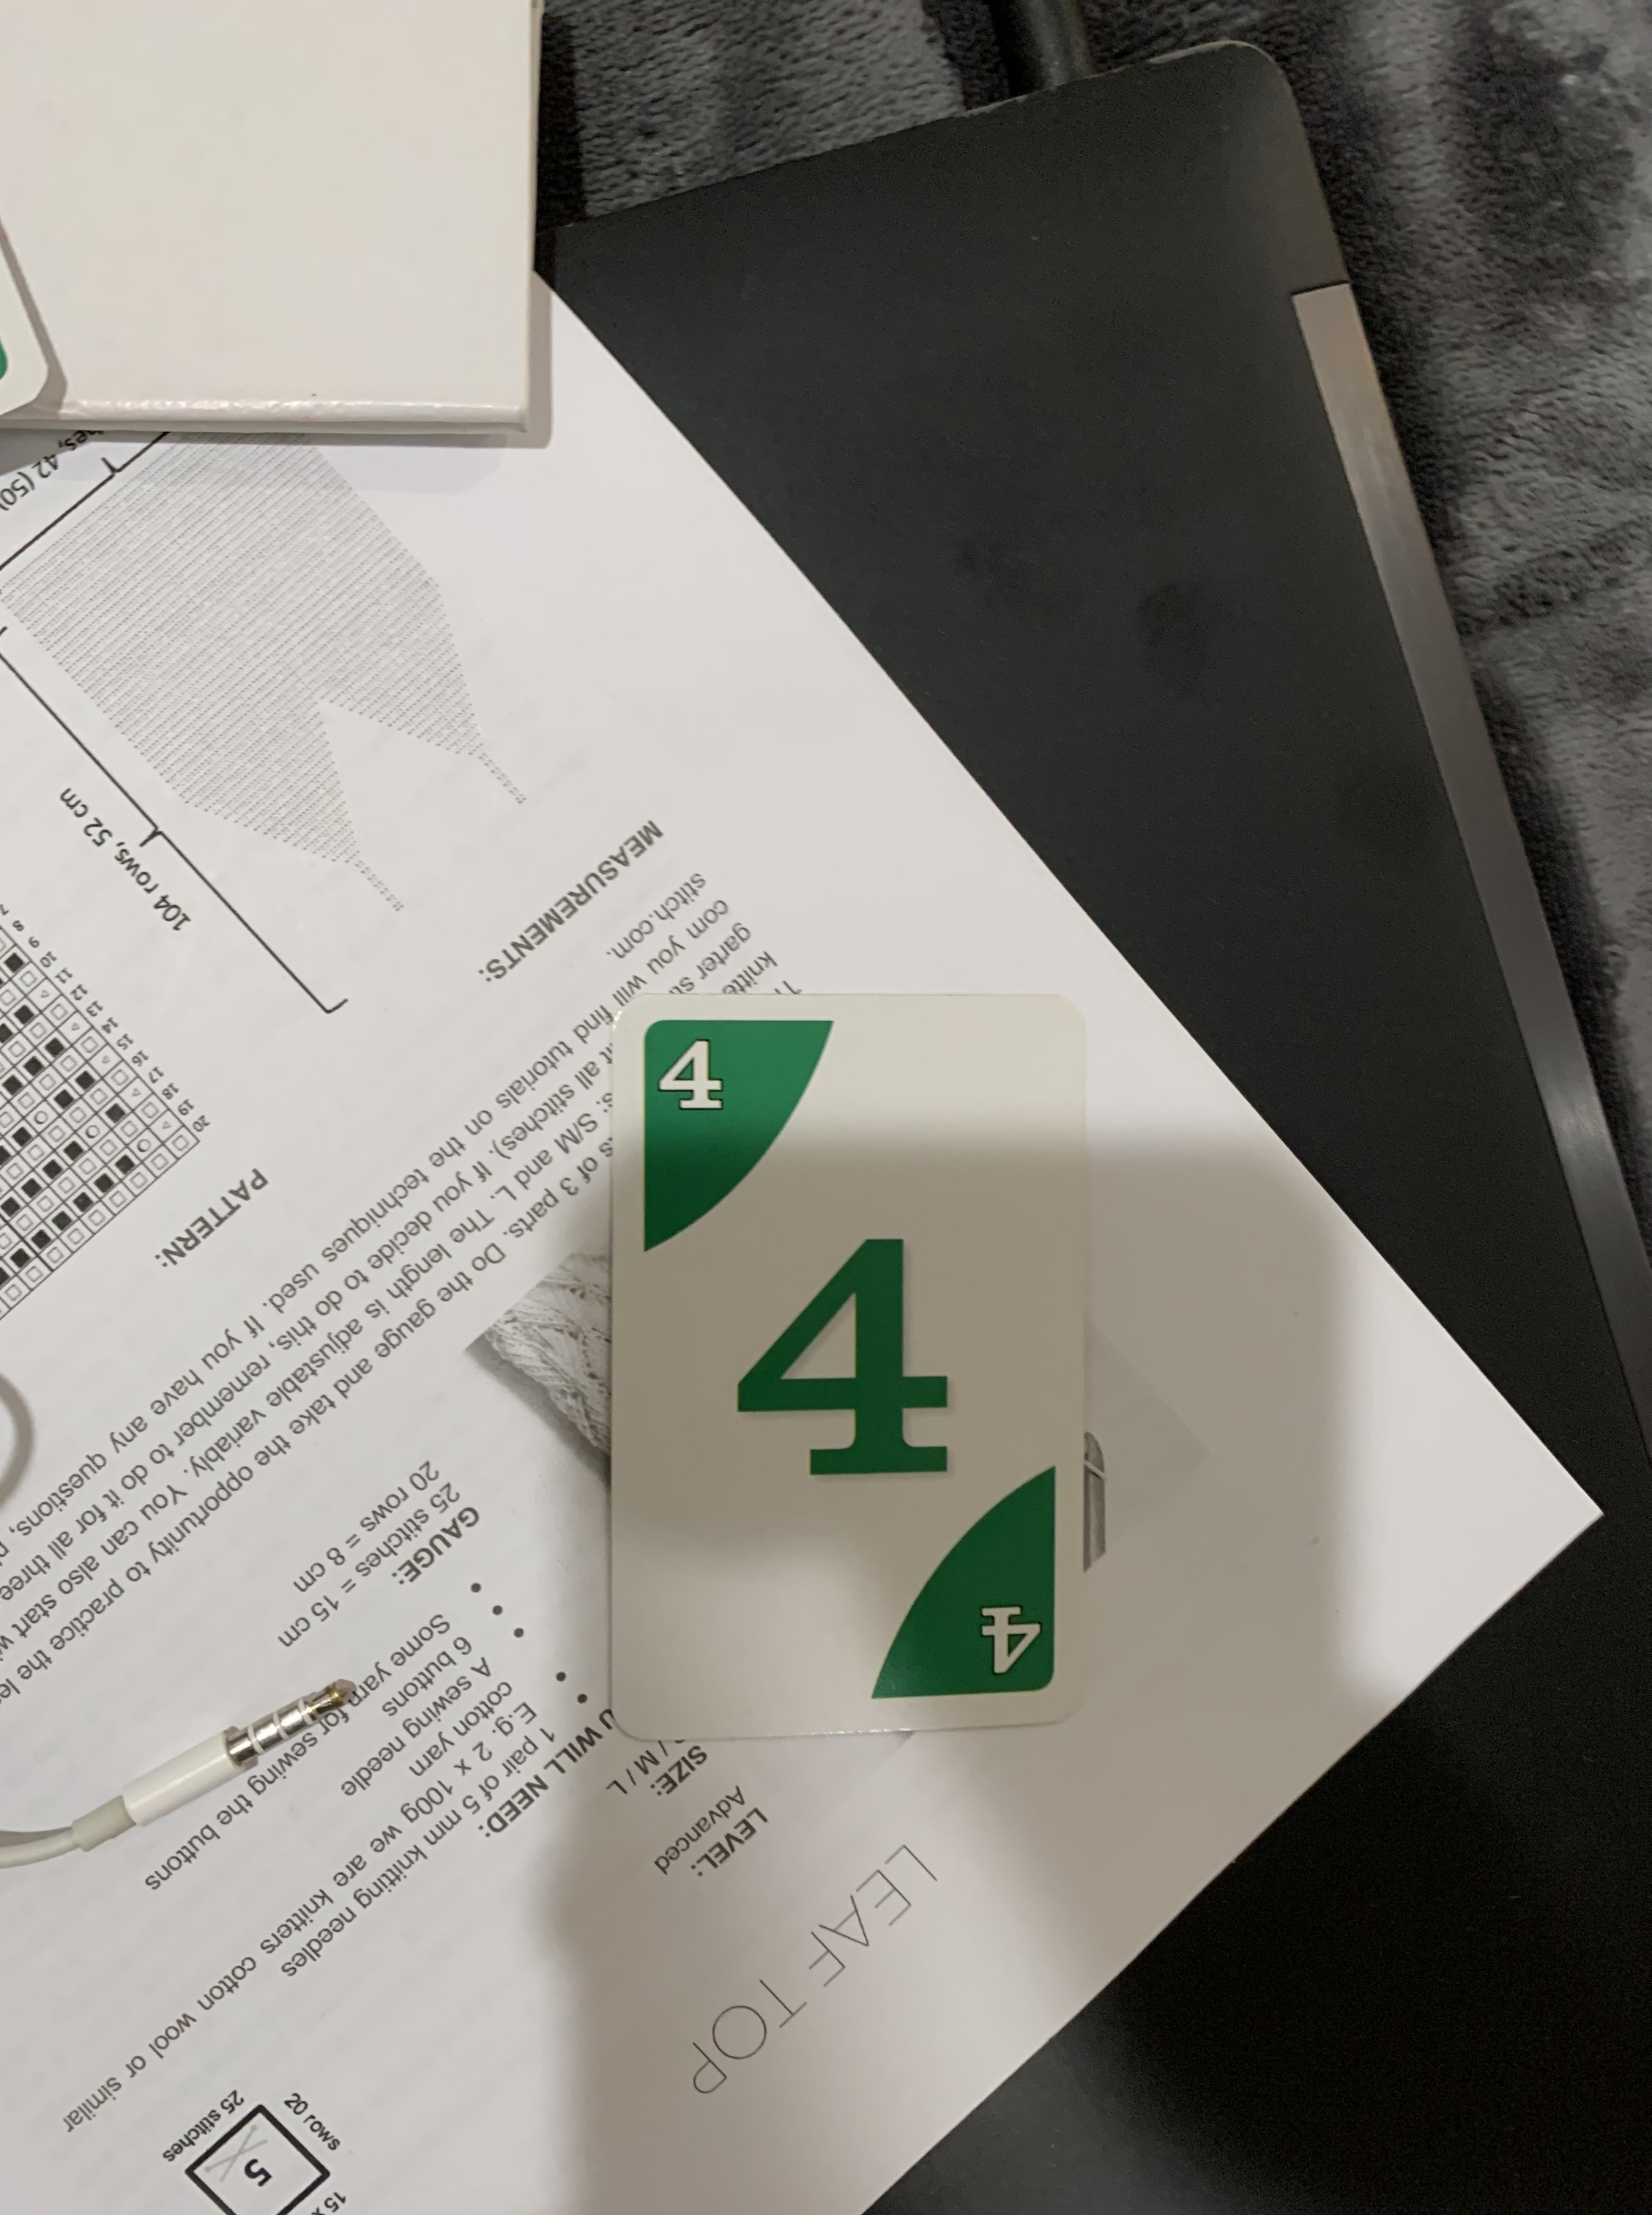four: (587, 976, 1095, 1750)
